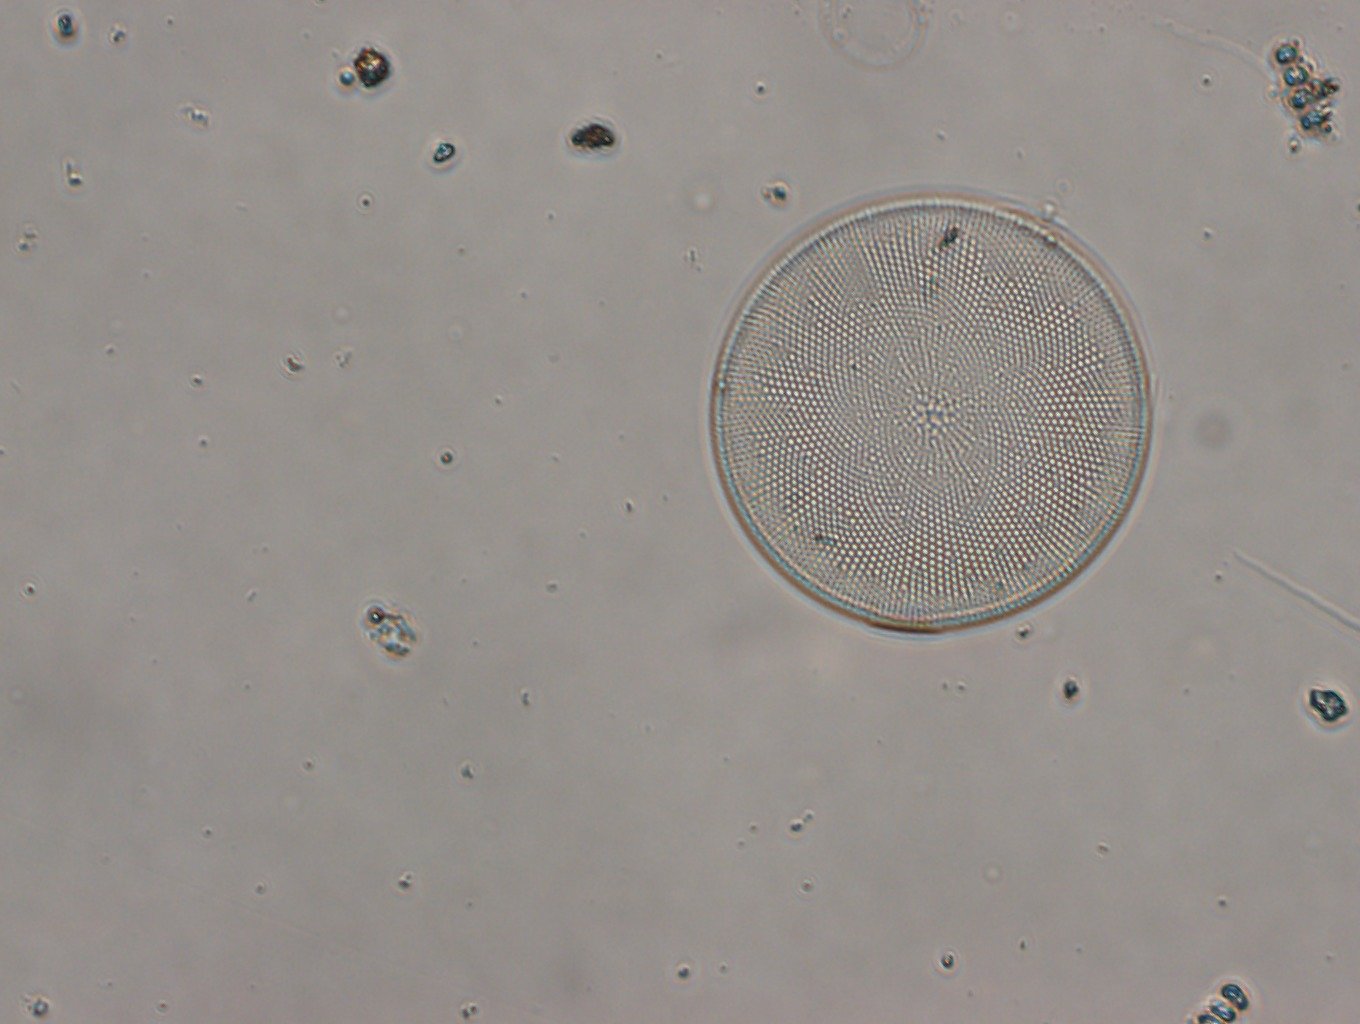coscinodiscus: (711, 184, 1161, 635)
